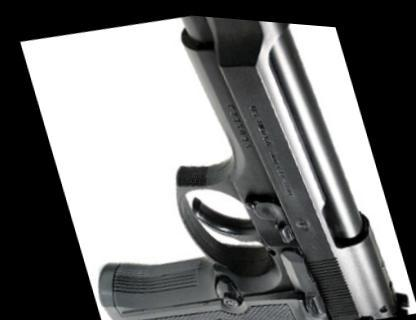pistol: (29, 1, 410, 317)
